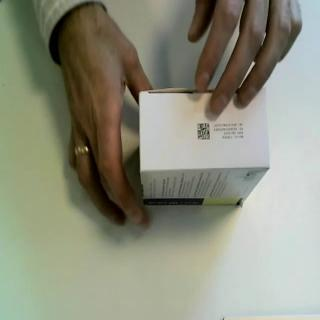fentanyl50ug_ml: (139, 85, 273, 209)
